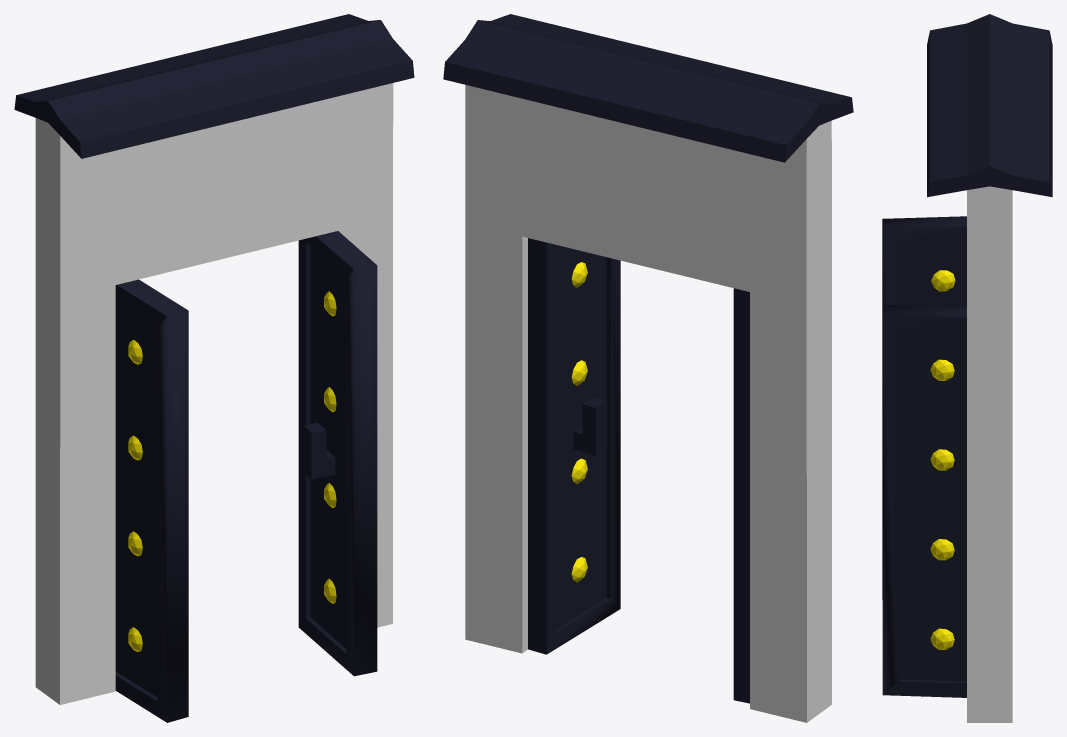
Rendered from DoorOpen.fbx.
3 renders of one model, left to right at view 1: azimuth 30°, elevation 25°; view 2: azimuth 150°, elevation 25°; view 3: azimuth 270°, elevation 25°, orthographic. The views are drawn at different scales.
Visible parts, largest first — view 1: Door; view 2: Door; view 3: Door.
Part boxes in pixels (x1,y1,x2,y2): Door: (14, 14, 414, 722); Door: (443, 14, 853, 722); Door: (882, 14, 1052, 722).
Size of the model in its own units: 240 by 410 by 114.
